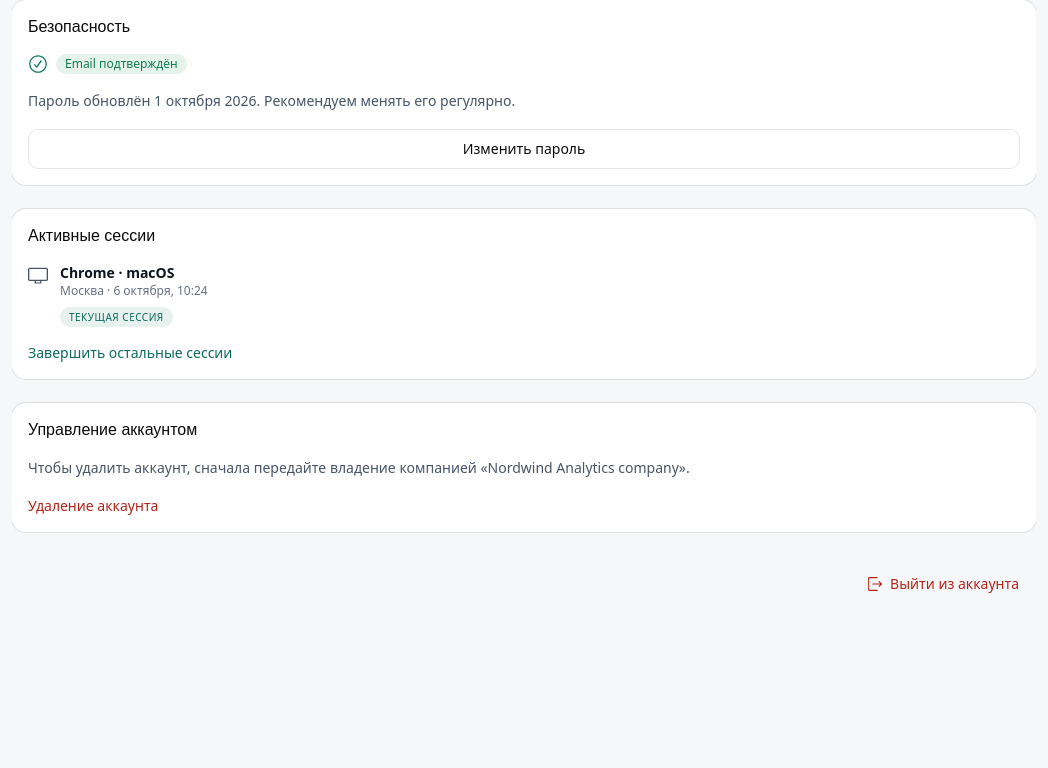
Scenario: SecuritySidebar › отправляет запрос на изменение пароля
This screenshot has width=1048, height=768.
Click the button "Изменить пароль": coordinates (524, 149) 28,129 -> 1020,169
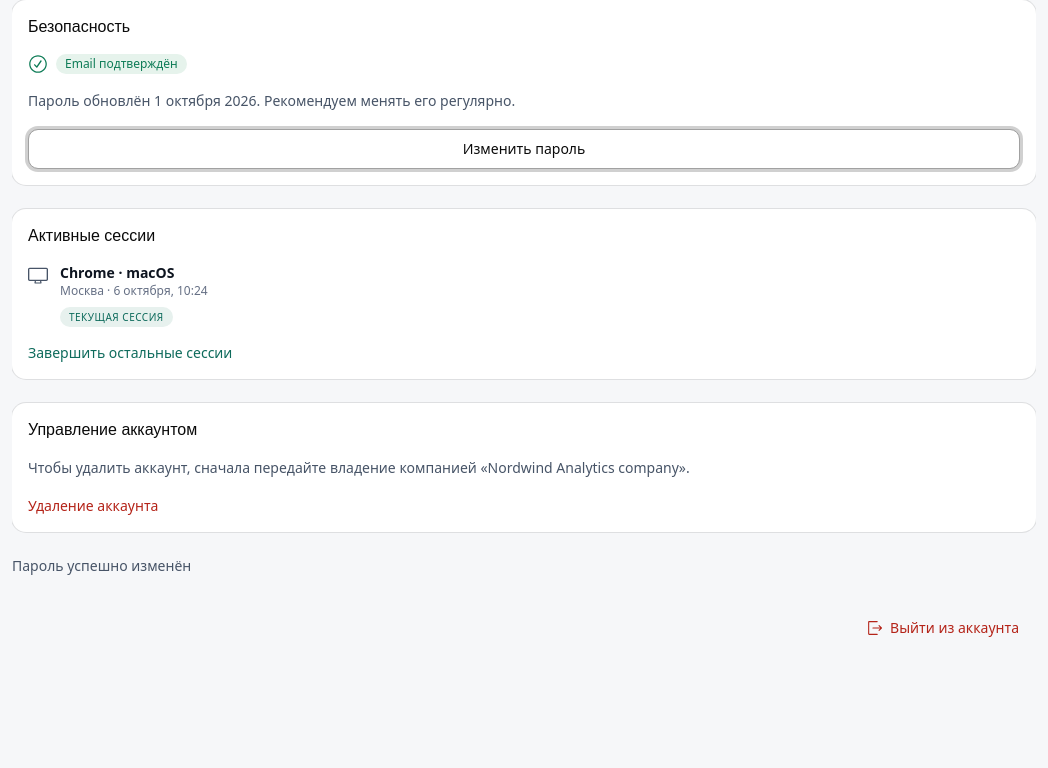
Check: the text "Пароль успешно изменён" is shown, box 12,556 -> 191,574
